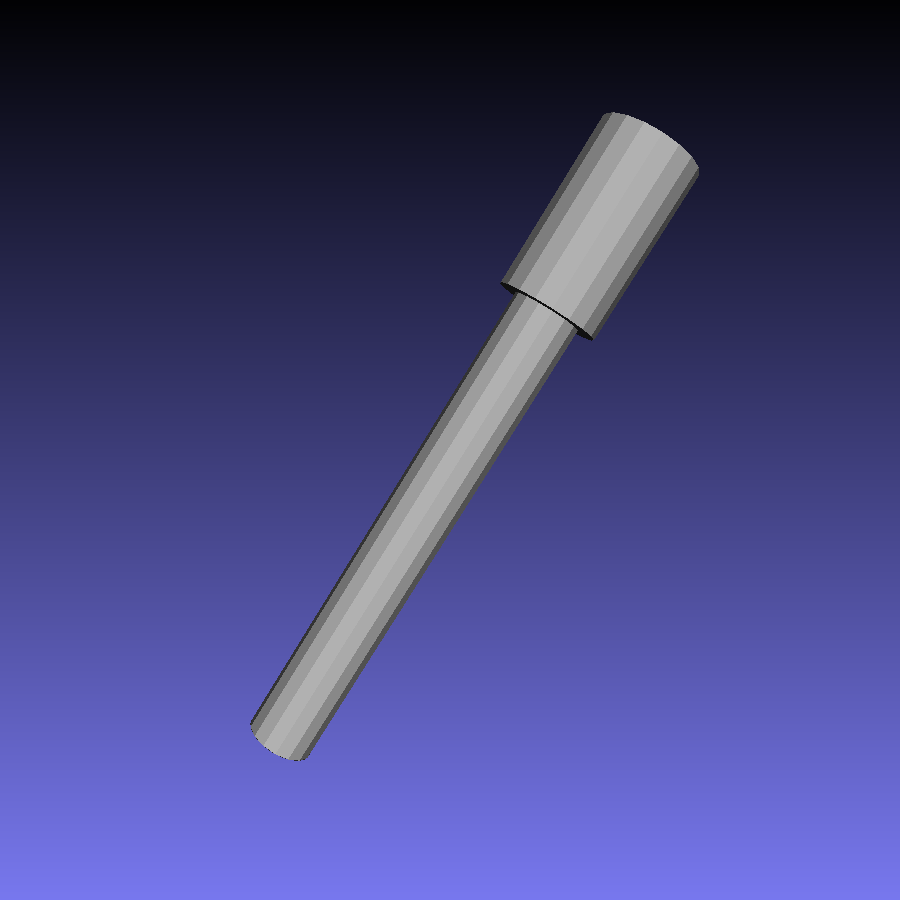cargo_g: (250, 114, 700, 762)
